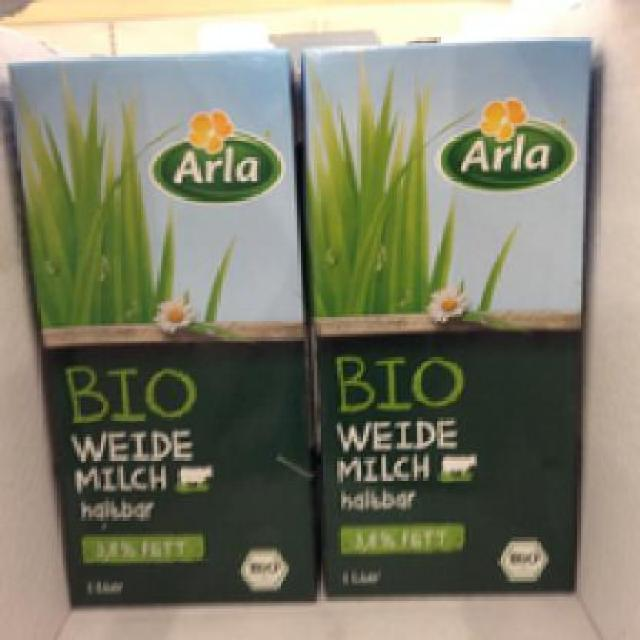Milk: (6, 37, 326, 600), (300, 34, 600, 600)
